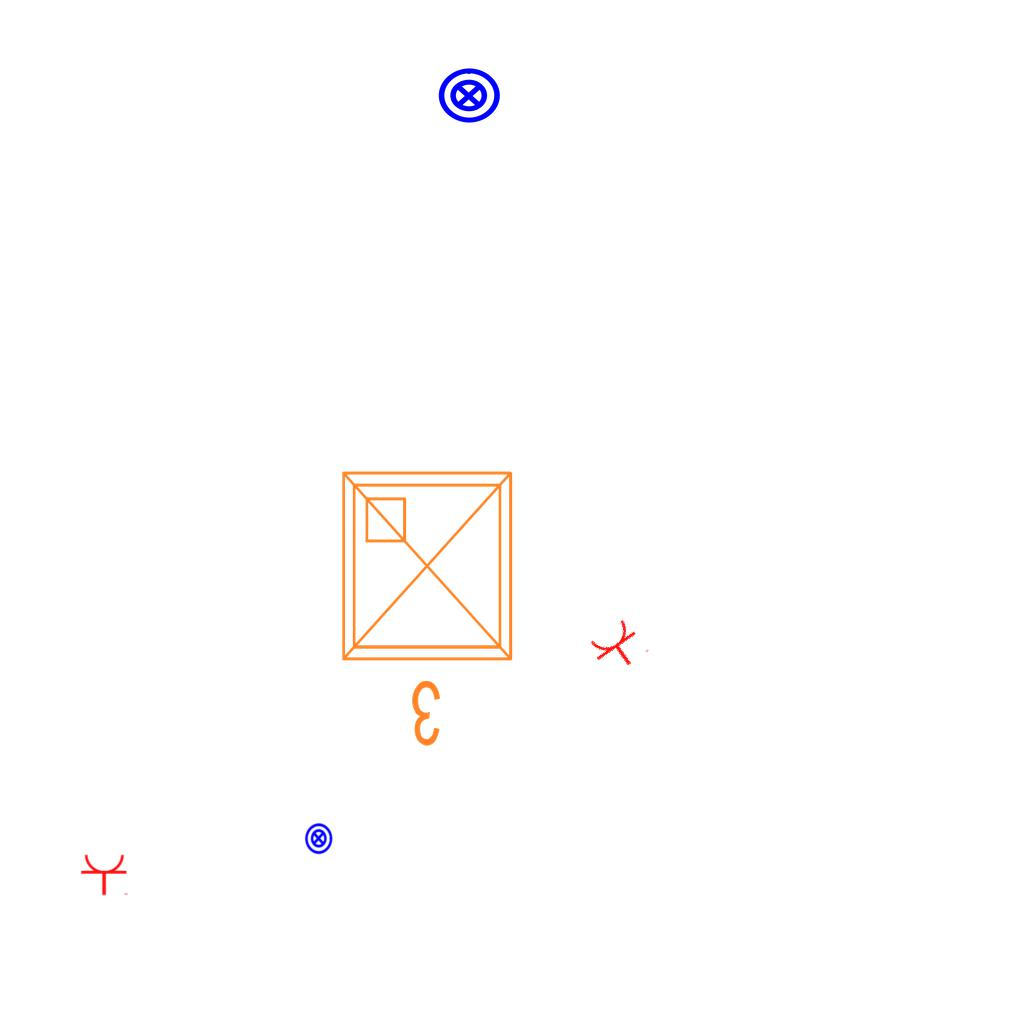Einbaudownlights_LED_Konferenzraeume: (327, 457, 535, 757)
Schukosteckdose_einfach: (585, 615, 652, 679), (80, 853, 130, 896)
Taster_beleuchtet: (436, 63, 502, 129), (302, 822, 335, 855)
